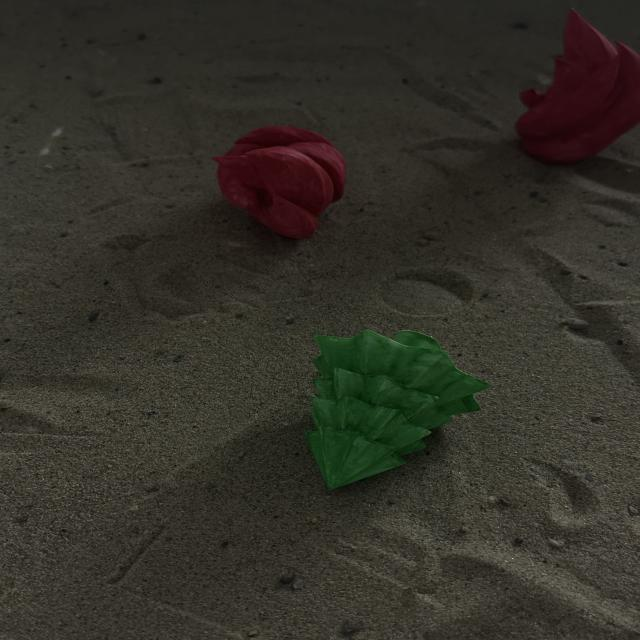fire: (512, 7, 638, 166), (210, 123, 348, 240)
tree: (300, 326, 490, 492)
